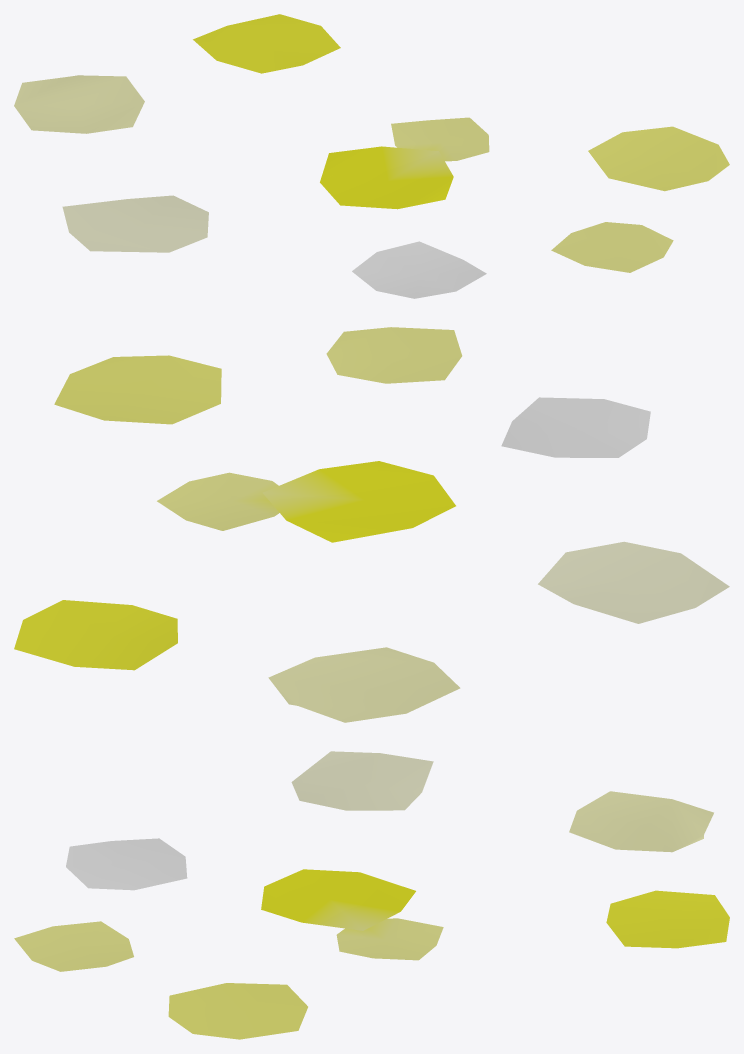
The model's file is Rembrandt_Water_Lily_uc2kajgia_High_uc2kajgia_VarB_LOD1.fbx.
3 views of the same model, one above another, from view 1: azimuth 30°, elevation 25°; view 2: azimuth 150°, elevation 25°; view 3: azimuth 270°, elevation 25° (orthographic). The views are drawn at different scales.
Parts seen in each view (by area): view 1: _a4ad_VarB_LOD2; view 2: _a4ad_VarB_LOD2; view 3: _a4ad_VarB_LOD2.
Boxes of the visible parts, left/top/right/bottom form: _a4ad_VarB_LOD2: left=14, top=14, right=729, bottom=298; _a4ad_VarB_LOD2: left=14, top=327, right=729, bottom=722; _a4ad_VarB_LOD2: left=14, top=751, right=729, bottom=1039.
Size of the model in its own units: 129 by 1.47 by 136.
